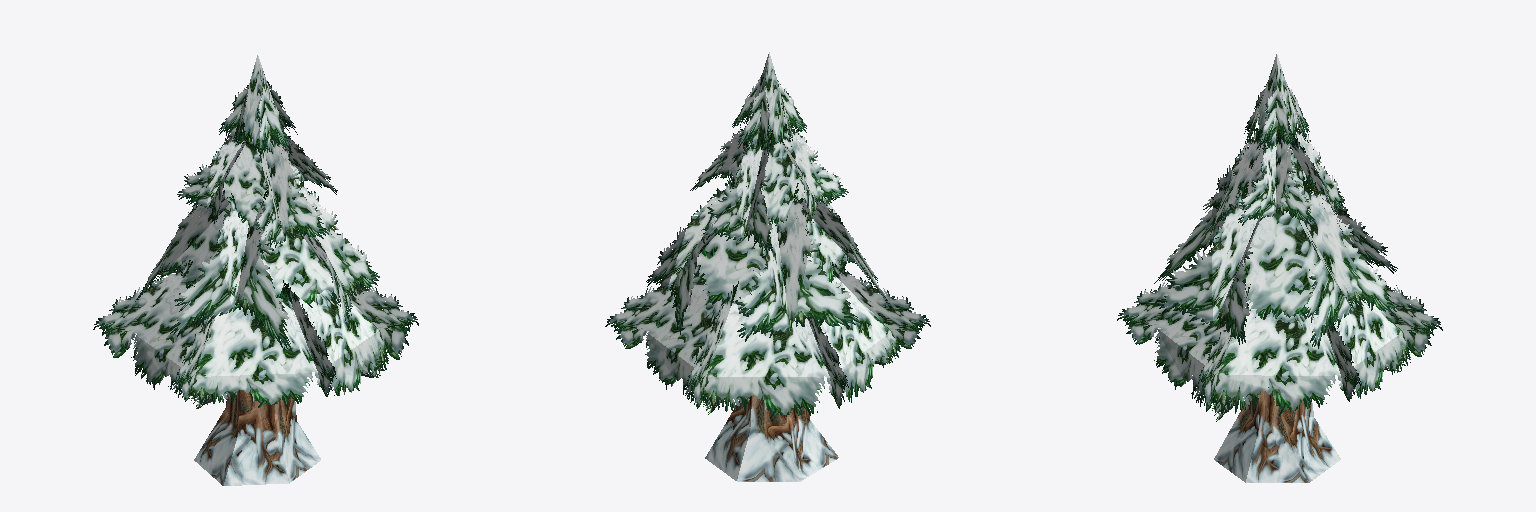
The picture shows the model from 3 angles: view 1: azimuth 30°, elevation 25°; view 2: azimuth 150°, elevation 25°; view 3: azimuth 270°, elevation 25°; orthographic projection.
Parts seen in each view (by area): view 1: wintertree05; view 2: wintertree05; view 3: wintertree05.
Boxes of the visible parts, <box> form: wintertree05: <box>93,55,418,485</box>; wintertree05: <box>605,52,930,481</box>; wintertree05: <box>1117,54,1442,482</box>.
Bounding box in the file's own units: 58.94 × 90.24 × 67.98.
Materials: 3 (3 with a texture image).